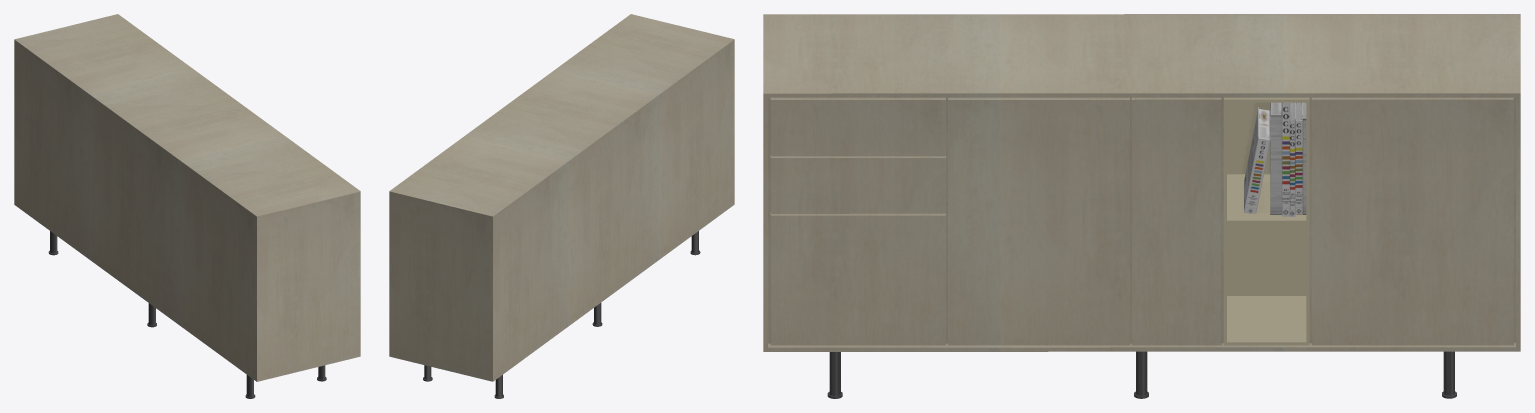
3 views of the same model, side by side, from view 1: azimuth 30°, elevation 25°; view 2: azimuth 150°, elevation 25°; view 3: azimuth 270°, elevation 25° (orthographic). The views are drawn at different scales.
Visible parts, largest first — view 1: solid_001_wire; view 2: solid_001_wire; view 3: solid_001_wire.
Boxes of the visible parts, left/top/right/bottom form: solid_001_wire: left=14, top=14, right=360, bottom=398; solid_001_wire: left=389, top=14, right=734, bottom=398; solid_001_wire: left=763, top=14, right=1520, bottom=398.
Size of the model in its own units: 0.3986 by 0.7349 by 1.6.
1 material, 1 textured.
